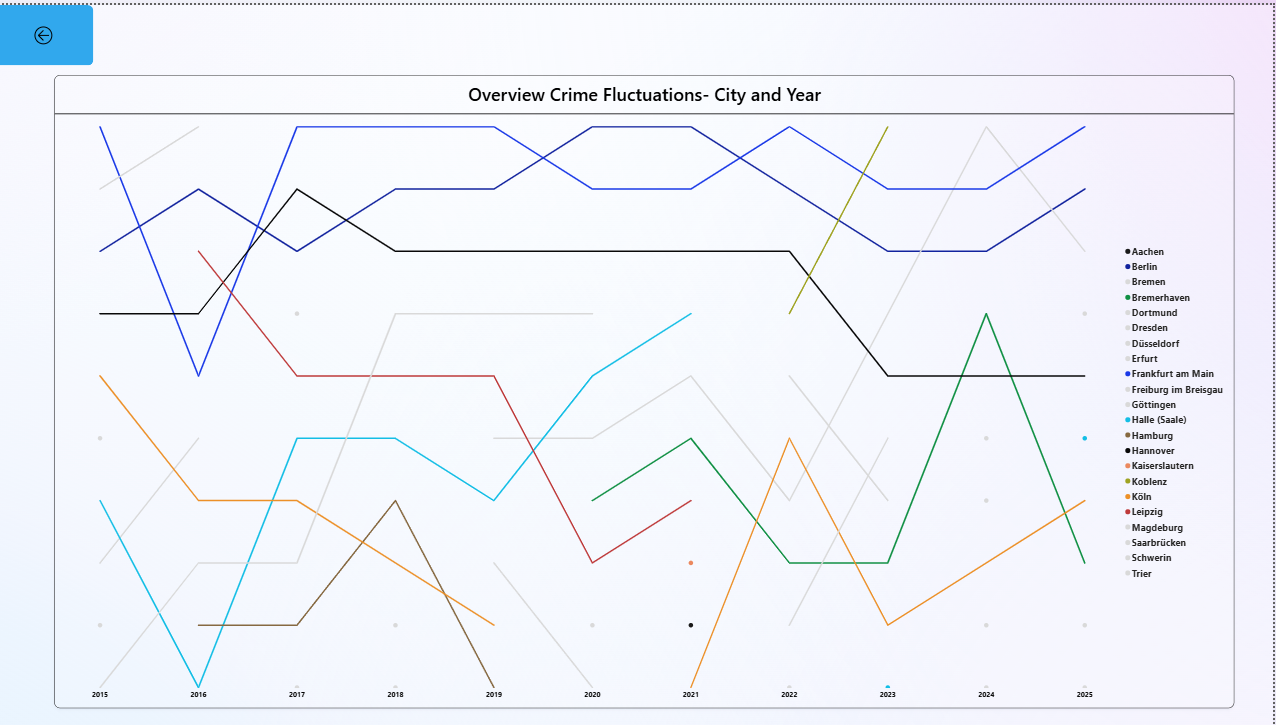

Layout of this report page (visuals, bound fields, positions):
{"tool":"powerbi","page":{"name":"Bump Chart Overall Top 3","canvas":[2560,1440],"ordinal":5},"visuals":[{"type":"lineChart","title":"Overview Crime Fluctuations- City and Year","fields":{"Category":["Dim_Year.Year"],"Series":["Dim_City.Stadt"],"Y":["Fact_Crime.Rank_HZ_Chart"]},"box":[122.5,140,2360,1266.7],"z":0},{"type":"actionButton","box":[0,0,200.9,121],"z":1000}]}

Visuals, with their boxes on the page's 2560x1440 design canvas (x1, y1, x2, y2). These are canvas units, not pixel positions in the 1276x725 screenshot, which may show the page scaled, cropped or inside an application window:
"Overview Crime Fluctuations- City and Year" lineChart: region(122, 140, 2482, 1407)
actionButton: region(0, 0, 201, 121)
